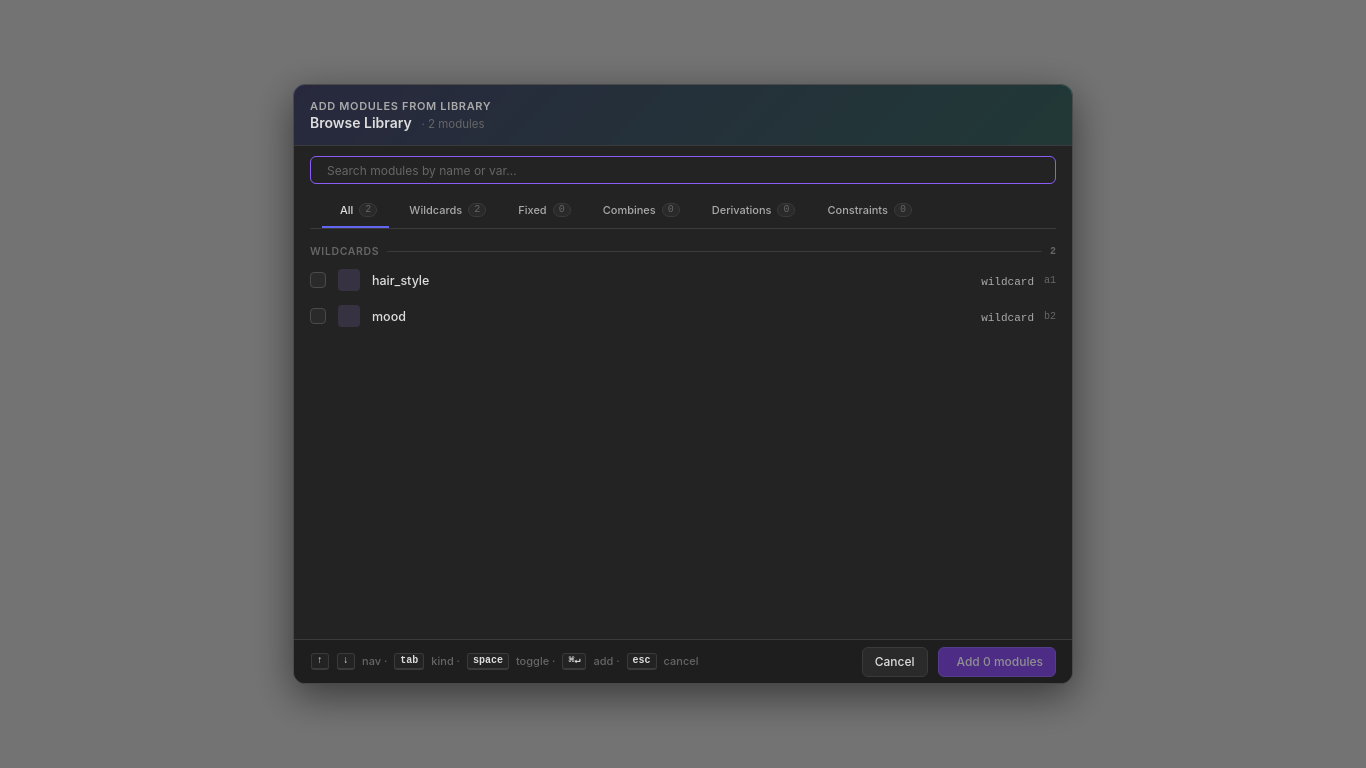
ModulePickerModal multi-select › footer button label updates with selection count
The width and height of the screenshot is (1366, 768).
Check: the button with test id "picker-add-btn" reads "Add 0 modules", box left=938, top=646, right=1056, bottom=676
Click the button with test id "picker-row-a1": (401, 280) left=302, top=262, right=1064, bottom=298
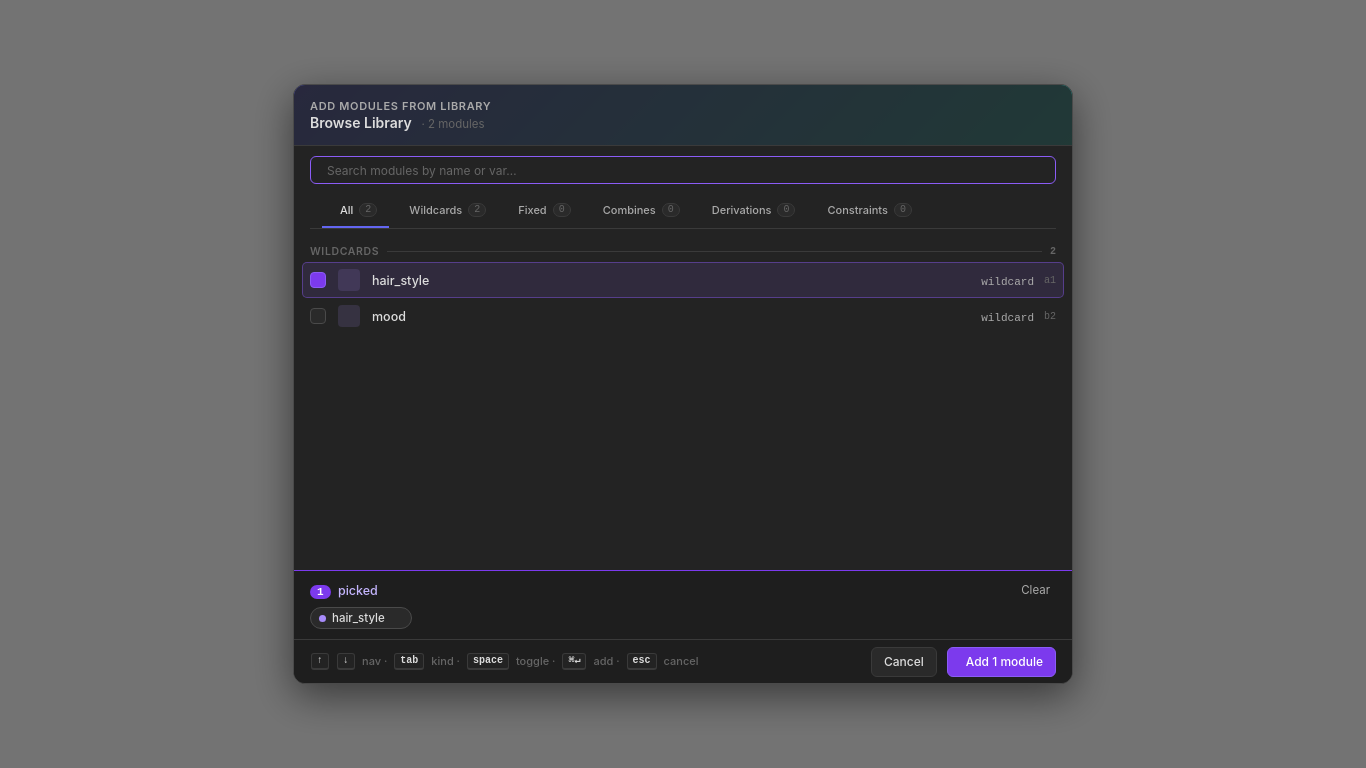
Check: the button with test id "picker-add-btn" reads "Add 1 module", box left=947, top=646, right=1056, bottom=676
Click the button with test id "picker-row-b2": (389, 316) left=302, top=298, right=1064, bottom=334
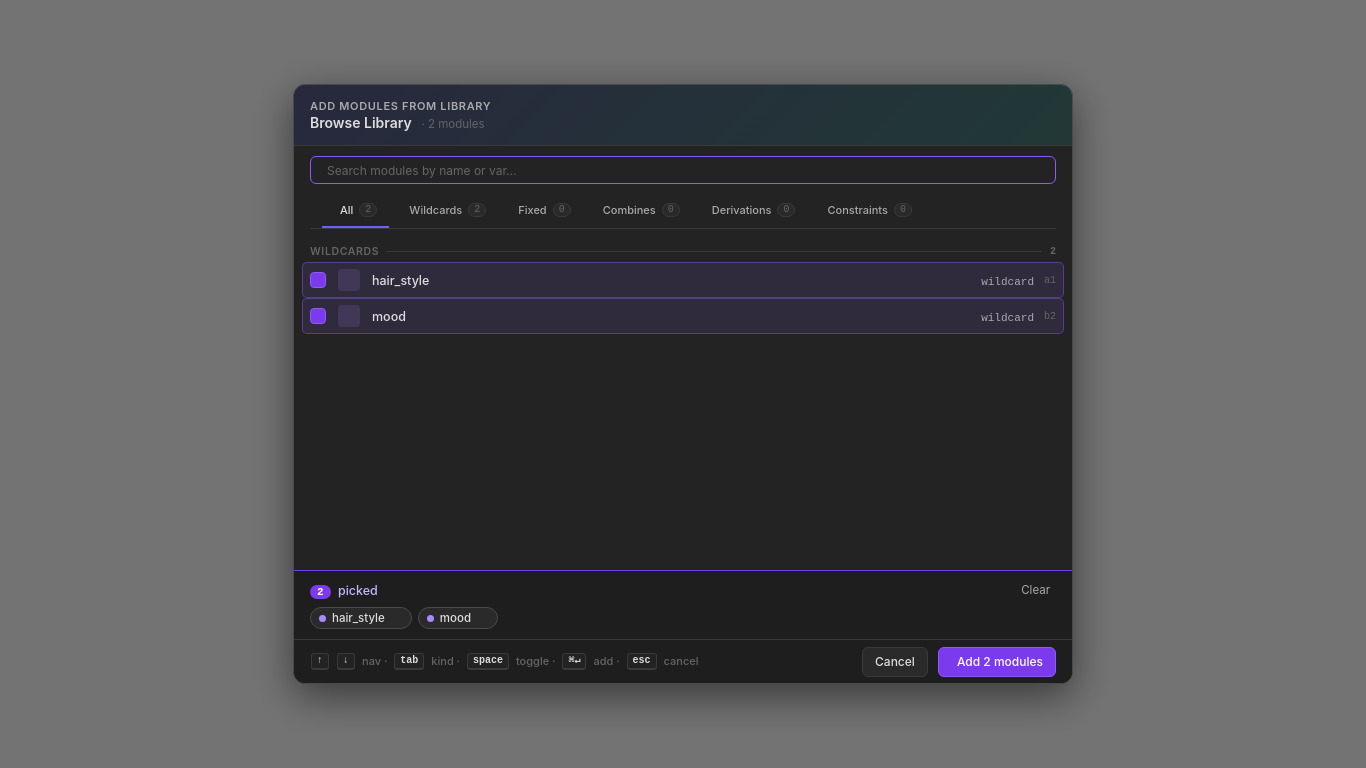
Check: the button with test id "picker-add-btn" reads "Add 2 modules", box left=938, top=646, right=1056, bottom=676
